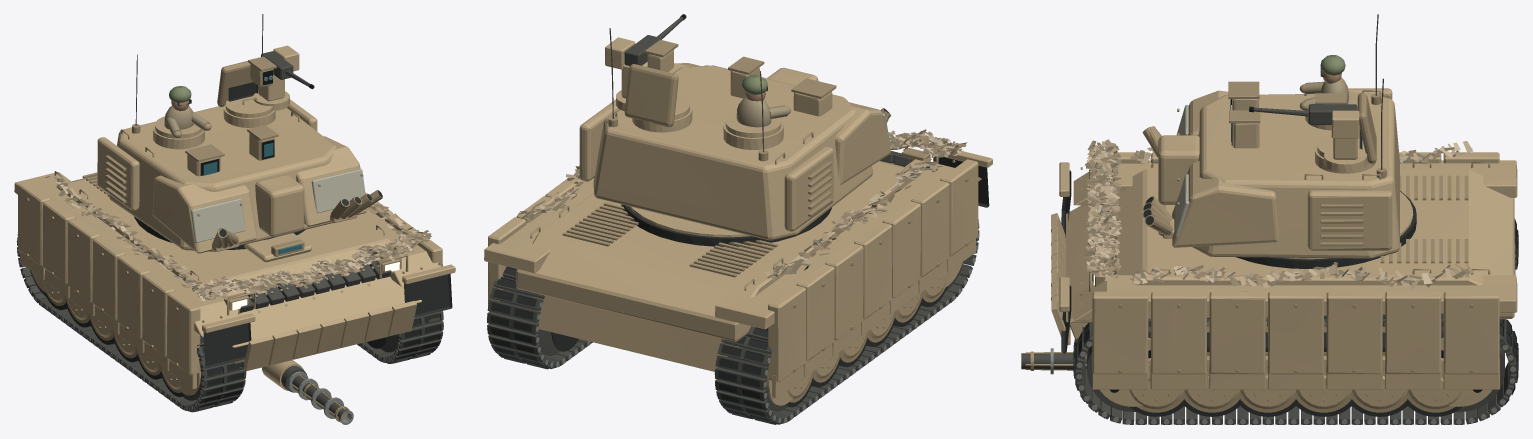
Rendered from challenger.glb.
3 renders of one model, left to right at view 1: azimuth 30°, elevation 25°; view 2: azimuth 150°, elevation 25°; view 3: azimuth 270°, elevation 25°, orthographic. The views are drawn at different scales.
Visible parts, largest first — view 1: body_material_1, turret_material_2, tracks_material_1, turret_material_4, body_material_5, tracks_material_2, body_material_7, body_material_0, body_material_6, body_material_12, body_material_2, body_material_11 (+12 smaller); view 2: body_material_1, turret_material_2, tracks_material_1, tracks_material_2, turret_material_4, body_material_2, tracks_material_3, turret_material_1, body_material_0, body_material_7, body_material_11, body_material_12 (+5 smaller); view 3: body_material_1, turret_material_2, tracks_material_3, tracks_material_1, turret_material_4, tracks_material_2, body_material_2, body_material_0, body_material_7, body_material_11, body_material_12, tracks_material_4 (+7 smaller).
Boxes of the visible parts, x1,y1,x2,y2 form: body_material_1: (14,172,455,389); turret_material_2: (97,45,367,253); tracks_material_1: (17,234,443,411); turret_material_4: (105,56,382,248); body_material_5: (177,99,452,367); tracks_material_2: (44,292,441,412); body_material_7: (55,180,431,300); body_material_0: (45,176,431,299); body_material_6: (239,260,391,312); body_material_12: (53,176,426,300); body_material_2: (26,123,440,366); body_material_11: (54,177,428,298); body_material_1: (484,150,992,398); turret_material_2: (579,37,890,240); tracks_material_1: (487,219,979,423); tracks_material_2: (489,266,947,424); turret_material_4: (606,39,890,216); body_material_2: (530,106,968,371); tracks_material_3: (767,262,962,405); turret_material_1: (621,108,890,246); body_material_0: (518,129,966,280); body_material_7: (522,131,967,276); body_material_11: (526,130,965,278); body_material_12: (522,132,963,273); body_material_1: (1051,152,1517,389); turret_material_2: (1158,88,1413,259); tracks_material_3: (1100,338,1491,409); tracks_material_1: (1075,245,1516,424); turret_material_4: (1142,81,1386,246); tracks_material_2: (1073,218,1518,424); body_material_2: (1065,84,1490,373); body_material_0: (1084,142,1472,287); body_material_7: (1085,139,1473,286); body_material_11: (1086,141,1473,287); body_material_12: (1085,142,1462,289); tracks_material_4: (1137,352,1455,412).
Bounding box in the file's own units: 3.88 × 4.2 × 5.52.
